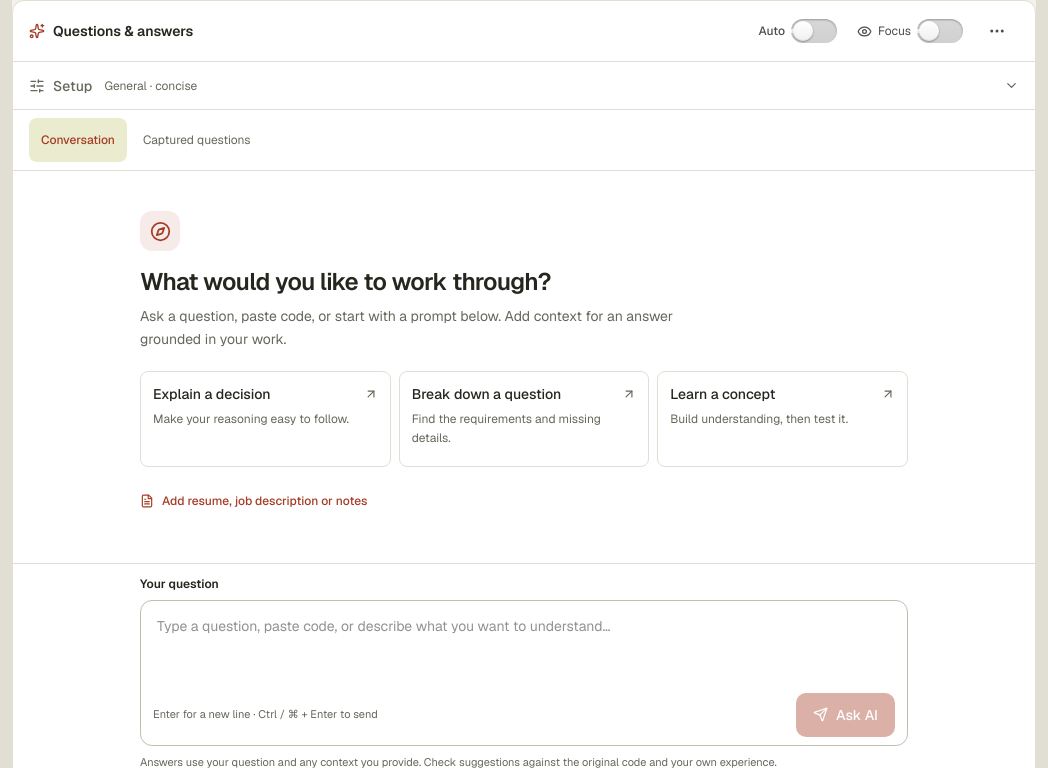
it: standalone AI workspace › preserves the draft on context failure and allows retry
Replace the text in the text box labelled "Your question" with "How do I explain retries?" at x=524, y=648, box [149, 608, 899, 688]
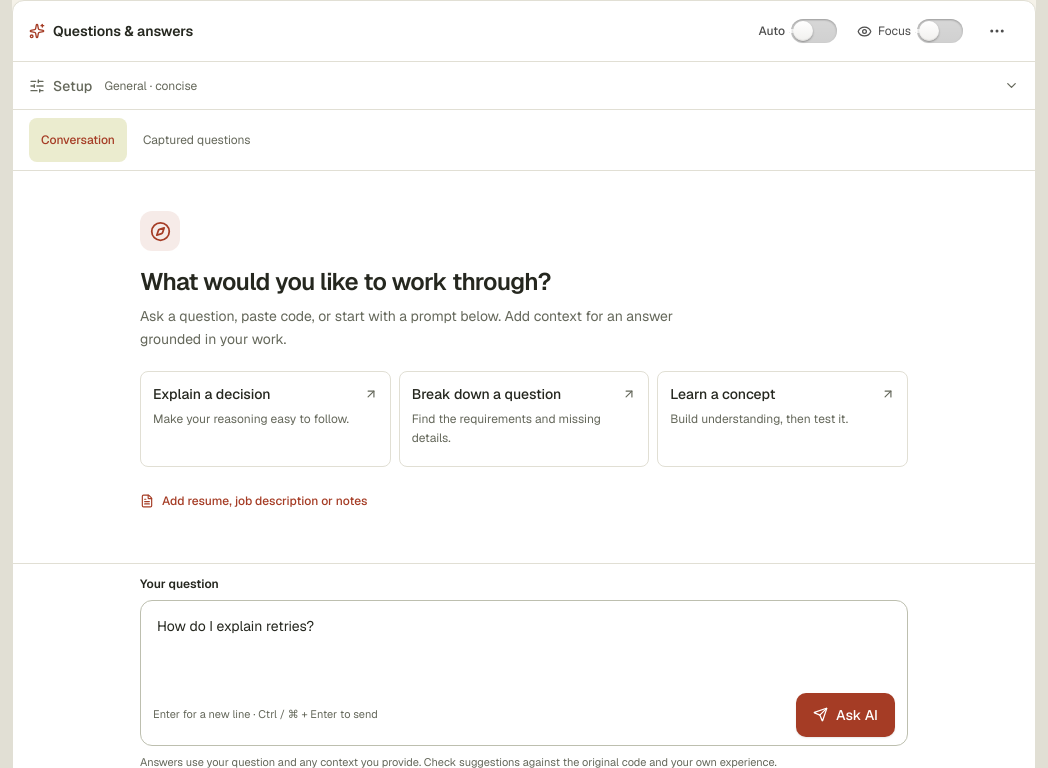
Click the button with aria-label "Send question" at x=846, y=714, box [796, 692, 895, 736]
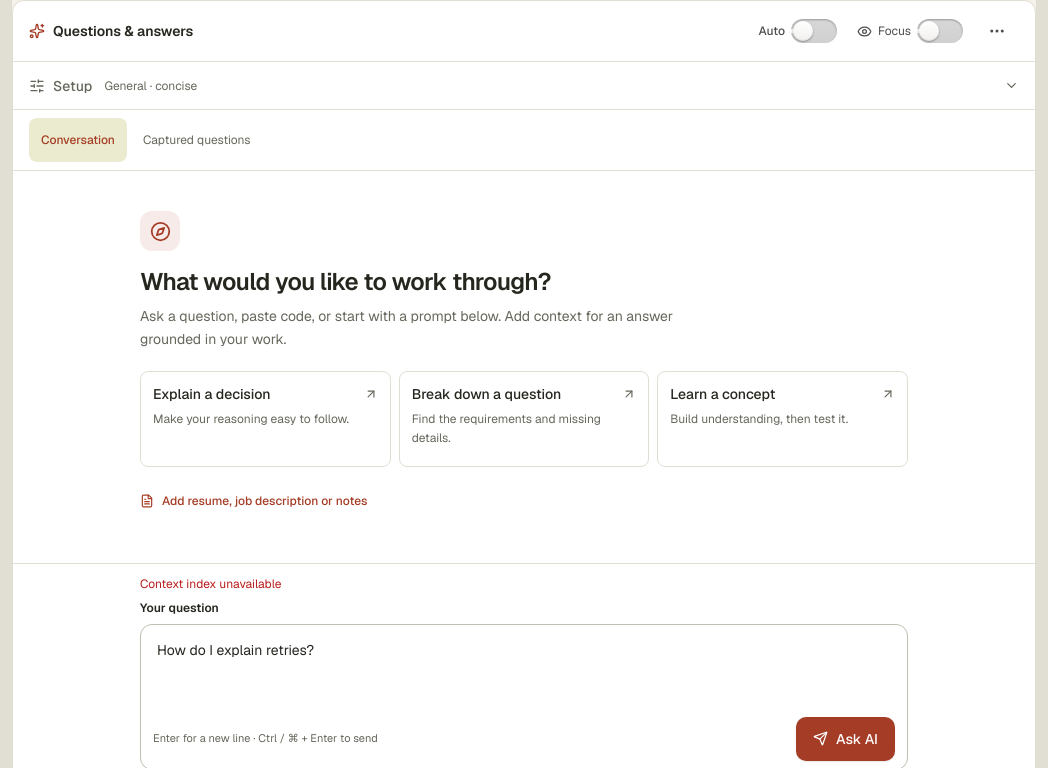
Result: the message reads "Context index unavailable" at [140, 576, 282, 592]
Click the button with aria-label "Send question" at x=846, y=738, box [796, 716, 895, 760]
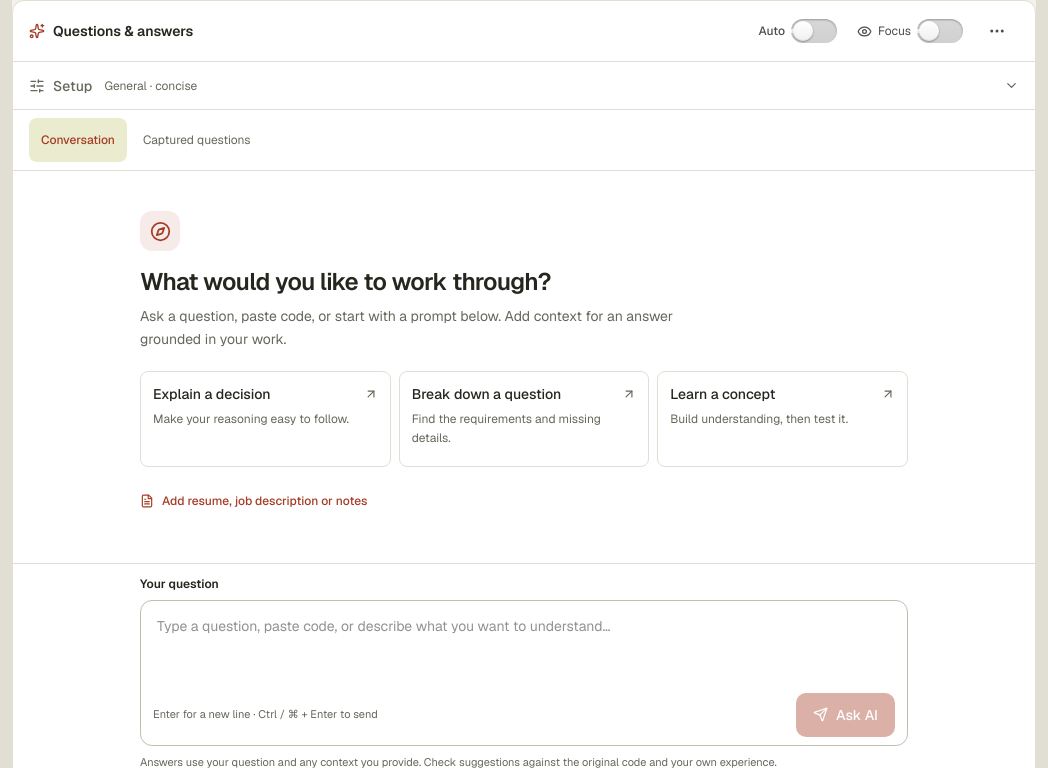
Result: the message "Context index unavailable" is gone
